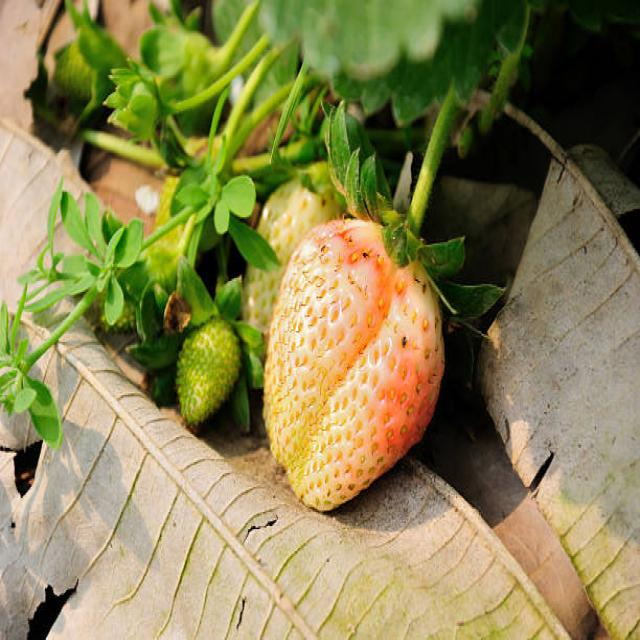Healthy Fruit: (265, 220, 446, 508)
